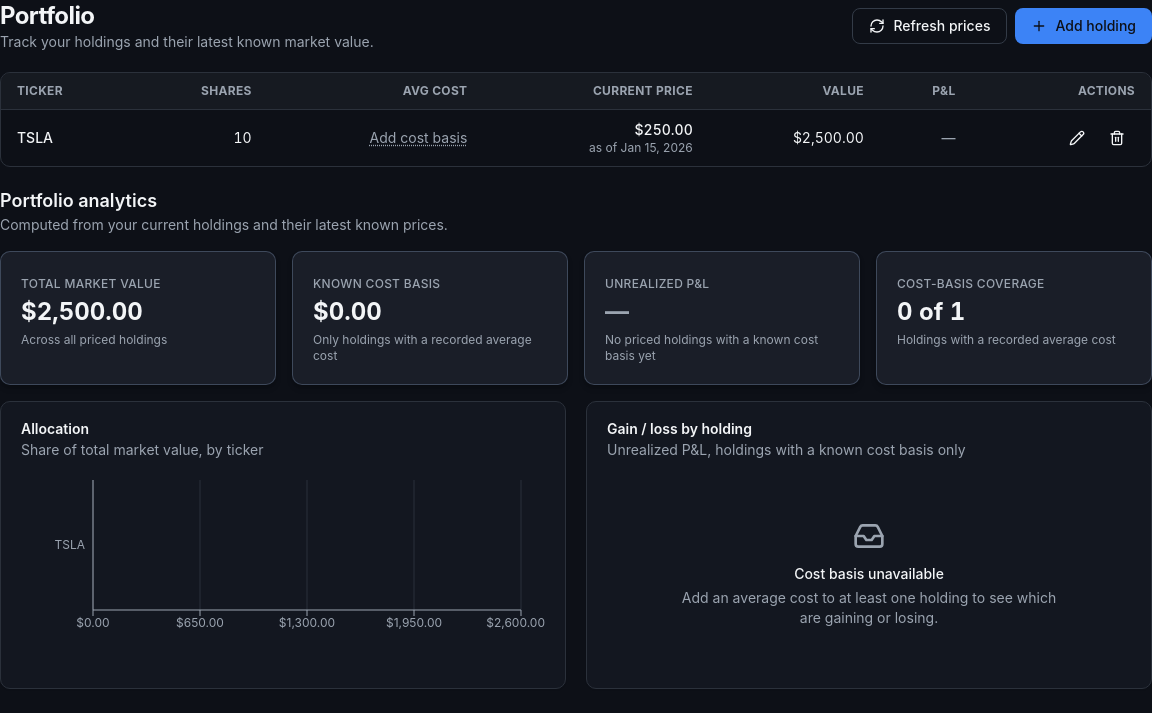
Test case: PortfolioPage › clicking Add cost basis opens the edit dialog for that holding
Click the button "Add cost basis" at {"x": 418, "y": 138}, box top-left (370, 128), bottom-right (467, 148)
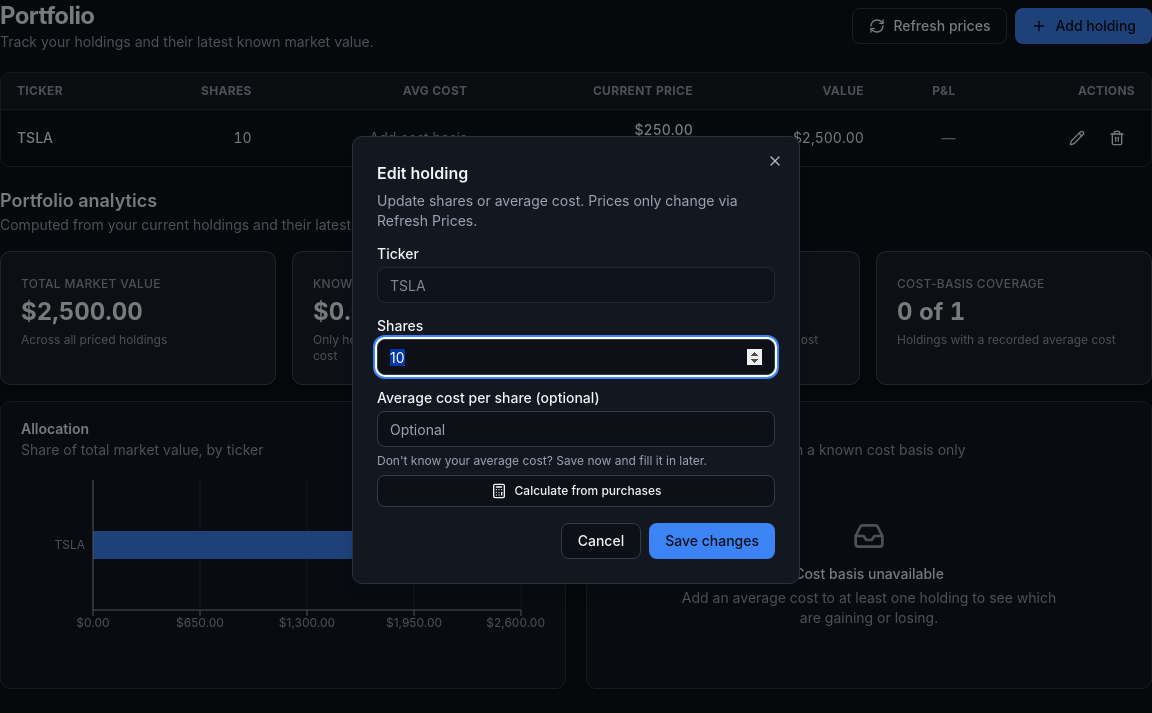
Check: the heading "Edit holding" is shown, box top-left (377, 163), bottom-right (468, 183)
